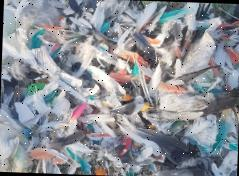organic: (123, 115, 196, 154), (1, 31, 44, 76), (122, 25, 153, 54), (134, 1, 157, 35), (30, 85, 49, 117), (86, 112, 118, 127)
